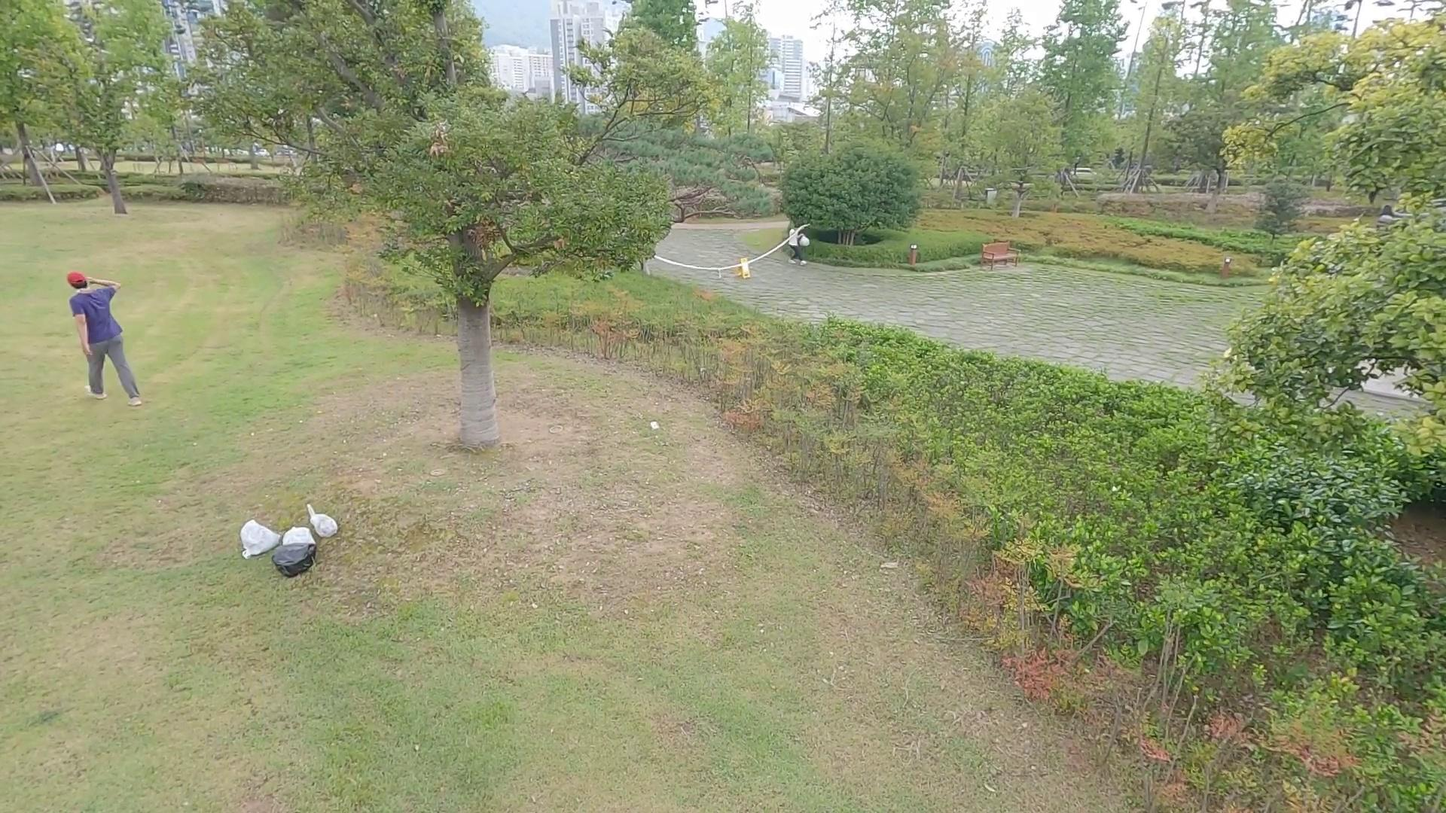person: (63, 268, 145, 408)
trash: (239, 516, 283, 561), (267, 542, 319, 579), (304, 503, 343, 541), (283, 526, 315, 551)
